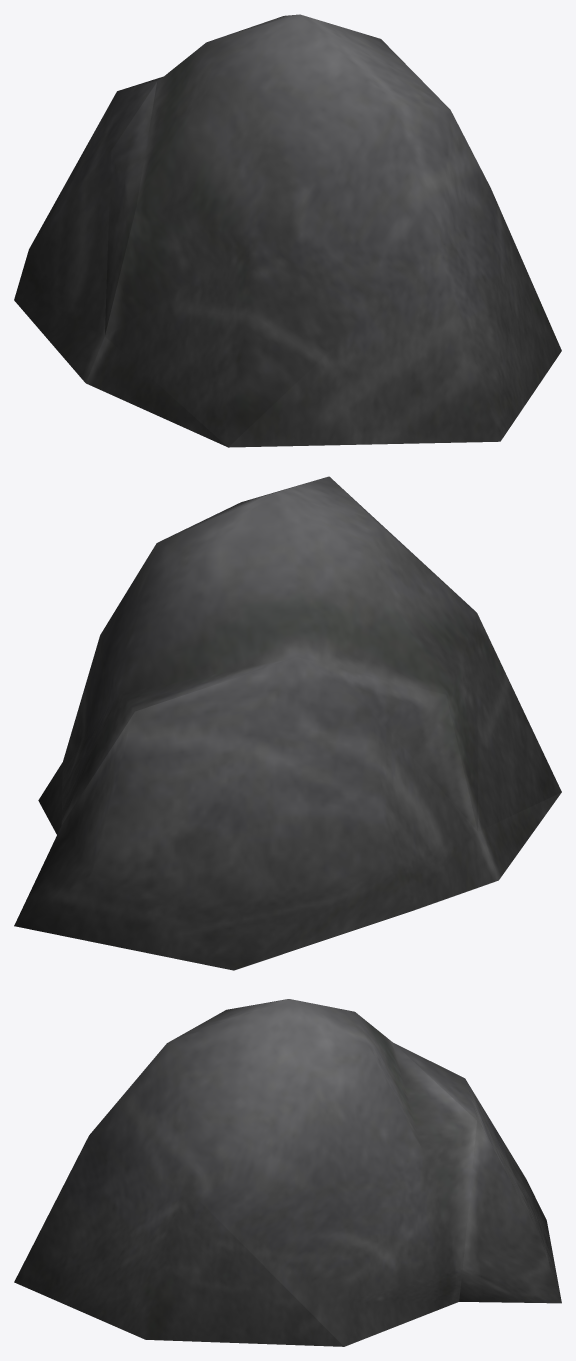
The model's file is modelRock05.fbx.
3 views of the same model, one above another, from view 1: azimuth 30°, elevation 25°; view 2: azimuth 150°, elevation 25°; view 3: azimuth 270°, elevation 25° (orthographic). The views are drawn at different scales.
Visible parts, largest first — view 1: modelRock05; view 2: modelRock05; view 3: modelRock05.
Boxes of the visible parts, x1,y1,x2,y2 form: modelRock05: (14, 14, 561, 447); modelRock05: (14, 476, 561, 970); modelRock05: (14, 999, 561, 1346).
Bounding box in the file's own units: 9.11 × 6.76 × 12.53.
